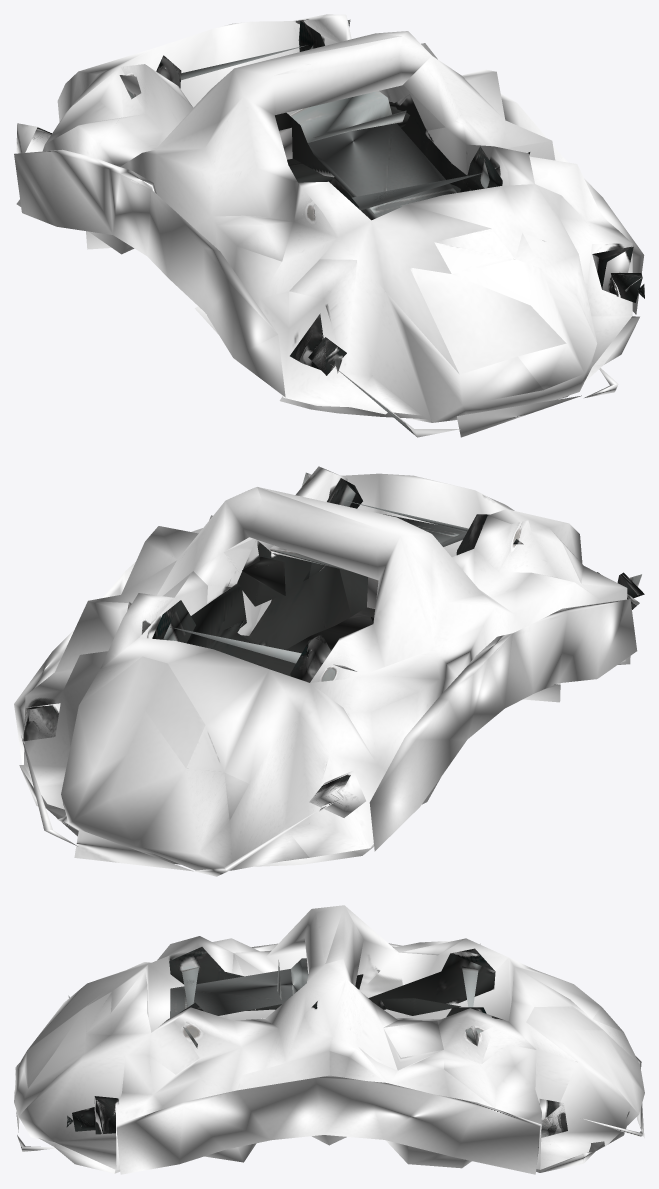
File: brake_caliper_white.obj
3 renders of one model, top to bottom at view 1: azimuth 30°, elevation 25°; view 2: azimuth 150°, elevation 25°; view 3: azimuth 270°, elevation 25°, orthographic. The views are drawn at different scales.
Visible parts, largest first — view 1: part; view 2: part; view 3: part.
Part boxes in pixels (<box>): part: <box>14,14,644,437</box>; part: <box>14,466,644,876</box>; part: <box>14,905,644,1174</box>.
Bounding box in the file's own units: 0.1512 × 0.0883 × 0.2787.
